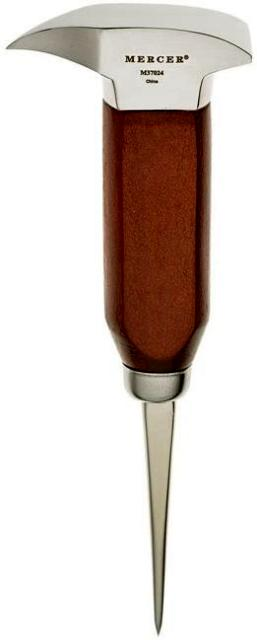ice pick: (3, 1, 256, 639)
